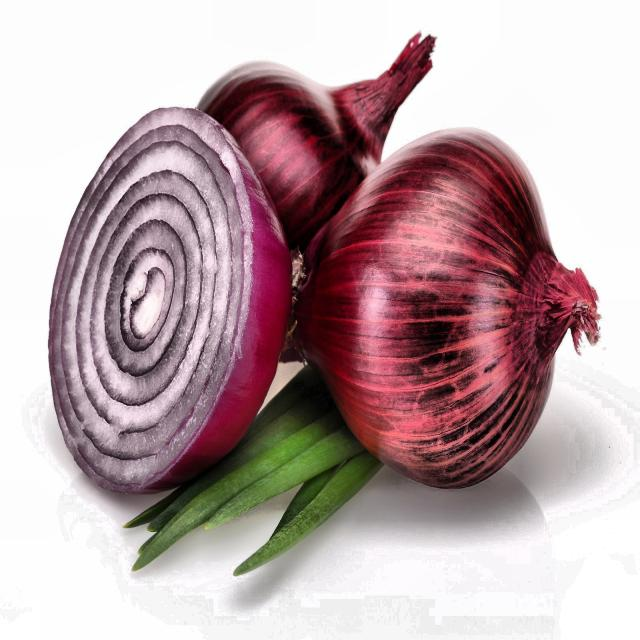onion: (46, 33, 587, 570)
